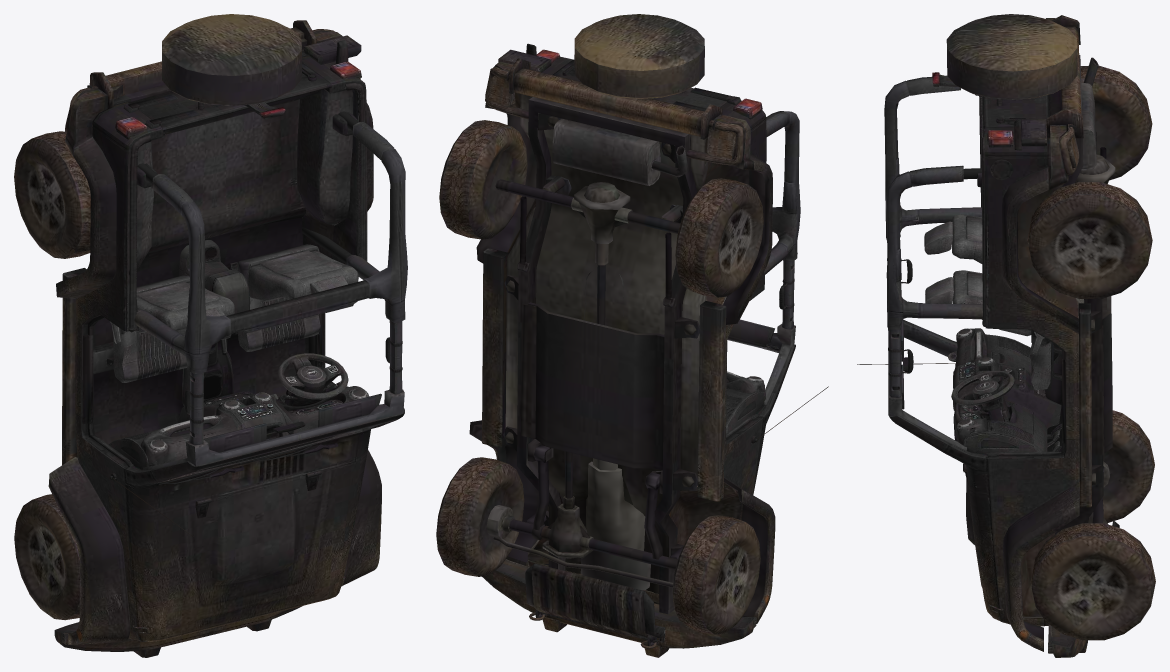
The model's file is Jeep.obj.
The picture shows the model from 3 angles, left to right: view 1: azimuth 30°, elevation 25°; view 2: azimuth 150°, elevation 25°; view 3: azimuth 270°, elevation 25°; orthographic projection. The views are drawn at different scales.
Parts seen in each view (by area): view 1: Box095, Box092, wheel5, wheel1, wheel04, steering; view 2: Box093, Box095, wheel5, wheel1, wheel04, wheel2, wheel3, Box092; view 3: Box095, Box092, wheel3, wheel2, wheel5, Box093, wheel1, wheel04, steering.
Boxes of the visible parts, <box> form: Box095: <box>48,20,407,657</box>; Box092: <box>93,88,369,471</box>; wheel5: <box>162,14,301,105</box>; wheel1: <box>14,131,90,258</box>; wheel04: <box>14,494,79,620</box>; steering: <box>277,353,348,399</box>; Box093: <box>486,94,708,614</box>; Box095: <box>469,43,828,657</box>; wheel5: <box>574,14,704,98</box>; wheel1: <box>675,178,763,297</box>; wheel04: <box>672,515,760,634</box>; wheel2: <box>439,120,527,239</box>; wheel3: <box>436,457,524,576</box>; Box092: <box>584,272,765,433</box>; Box095: <box>857,15,1119,657</box>; Box092: <box>924,96,1084,453</box>; wheel3: <box>1030,523,1155,640</box>; wheel2: <box>1027,182,1152,298</box>; wheel5: <box>946,14,1077,99</box>; Box093: <box>1051,55,1115,534</box>; wheel1: <box>1080,65,1152,180</box>; wheel04: <box>1102,410,1154,522</box>; steering: <box>951,370,1014,407</box>.
Size of the model in its own units: 136 by 271 by 125.
4 materials, 4 textured.
